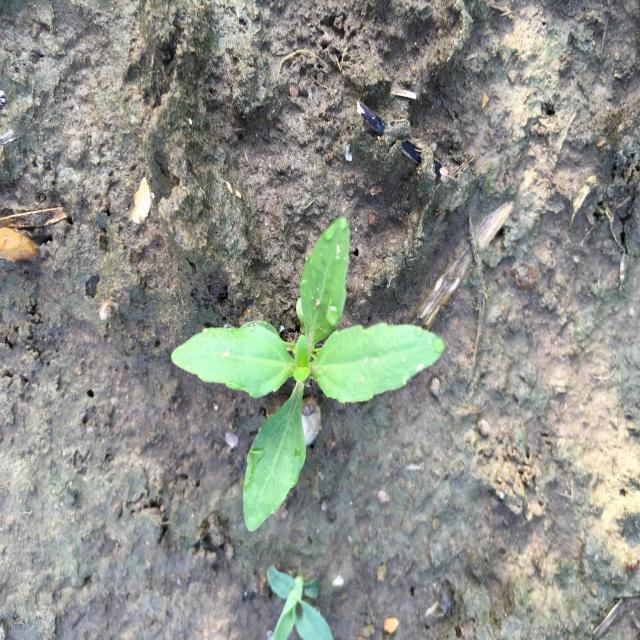Eclipta: (169, 215, 447, 535)
